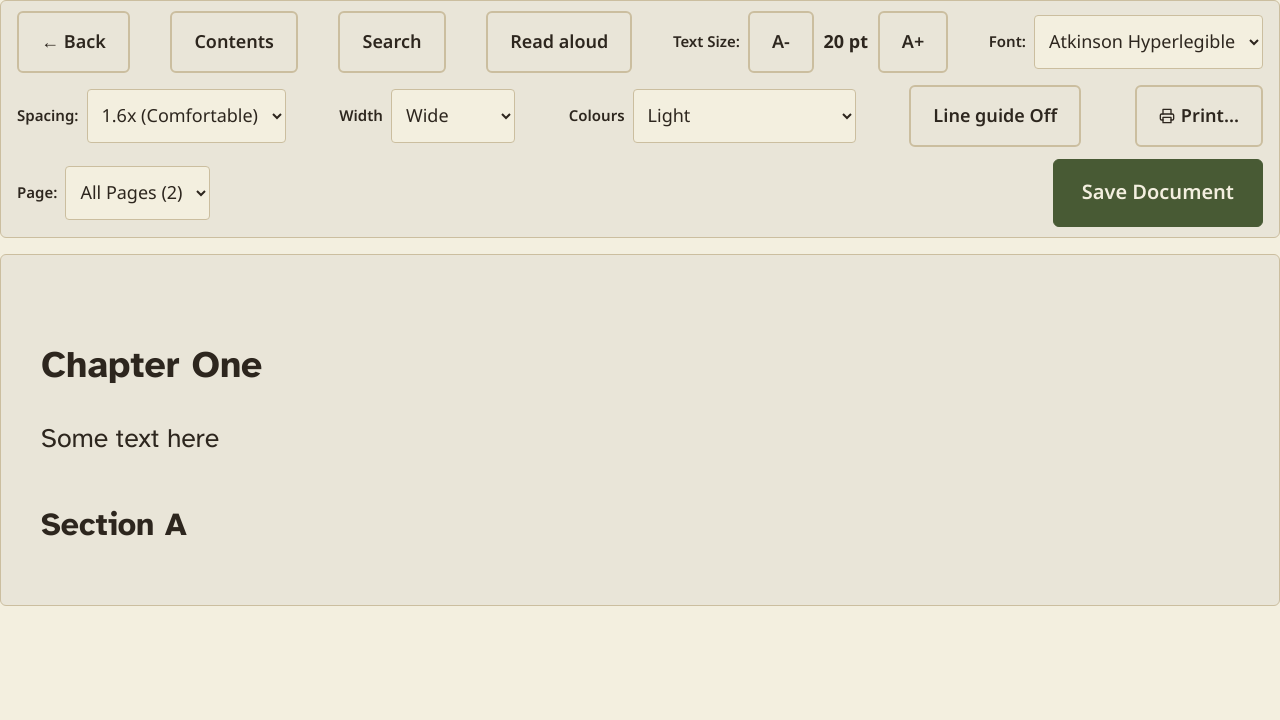
Test: ReaderView › toggles table of contents drawer and lists headings (UI-001, OUT-002)
Step 1. Click the button with aria-label "table of contents" → (234, 42), box [170, 11, 298, 73]
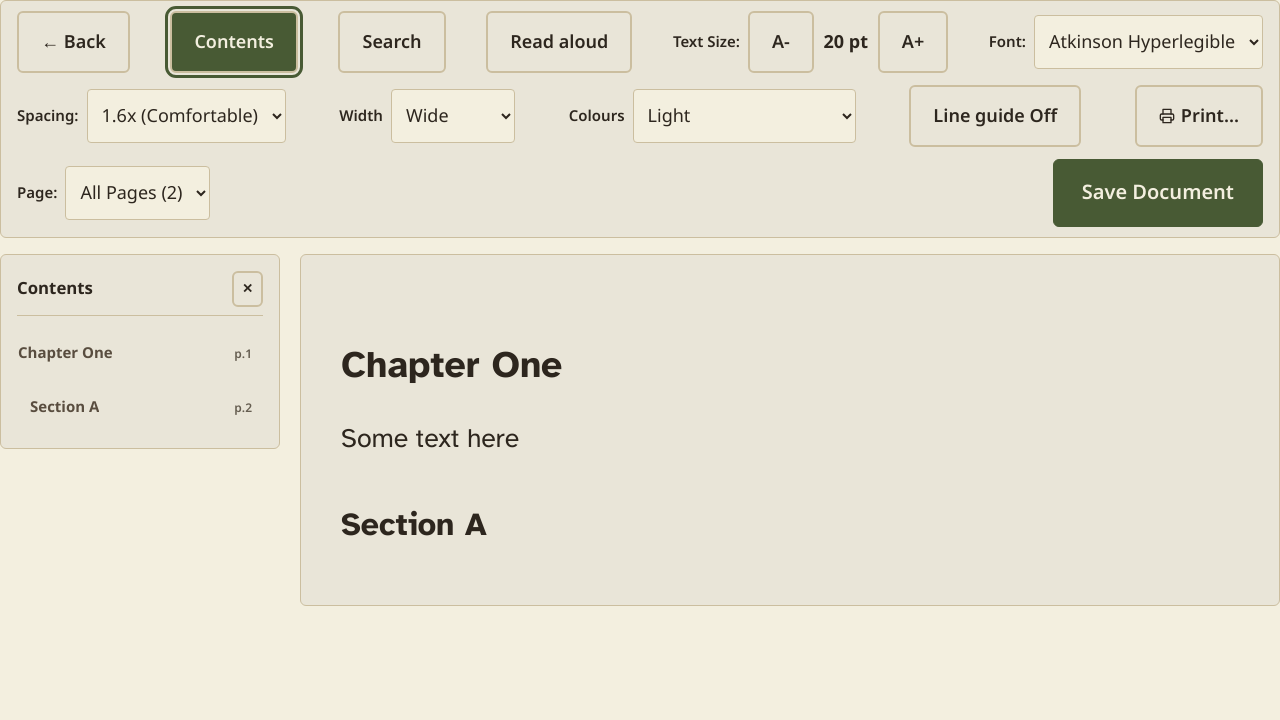
Check: the navigation bar named "table of contents" is shown, box [0, 254, 280, 449]
Check: the button "Chapter One p.1" is shown, box [17, 328, 263, 378]
Check: the button "Section A p.2" is shown, box [17, 382, 263, 432]
